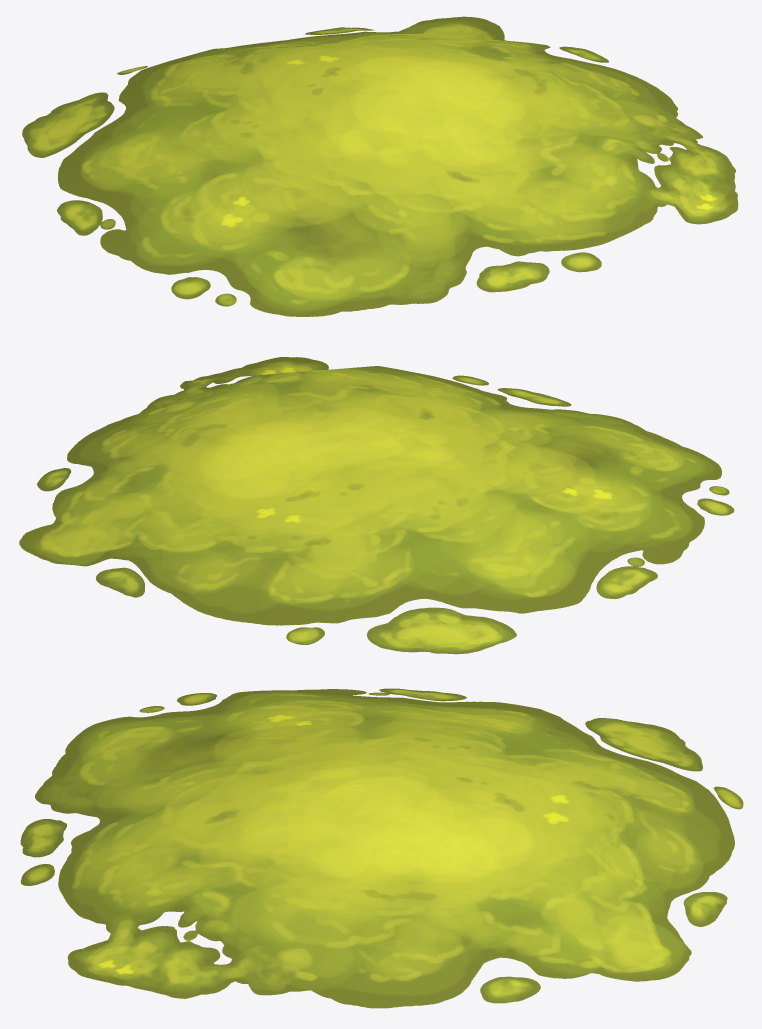
Rendered from Moss1.fbx.
3 views of the same model, one above another, from view 1: azimuth 30°, elevation 25°; view 2: azimuth 150°, elevation 25°; view 3: azimuth 270°, elevation 25° (orthographic). The views are drawn at different scales.
Visible parts, largest first — view 1: pPlane2; view 2: pPlane2; view 3: pPlane2.
Boxes of the visible parts, bbox=[...] form: pPlane2: bbox=[22, 16, 738, 316]; pPlane2: bbox=[19, 357, 734, 654]; pPlane2: bbox=[20, 688, 743, 1008].
Size of the model in its own units: 5.64 by 0.5528 by 5.32.
